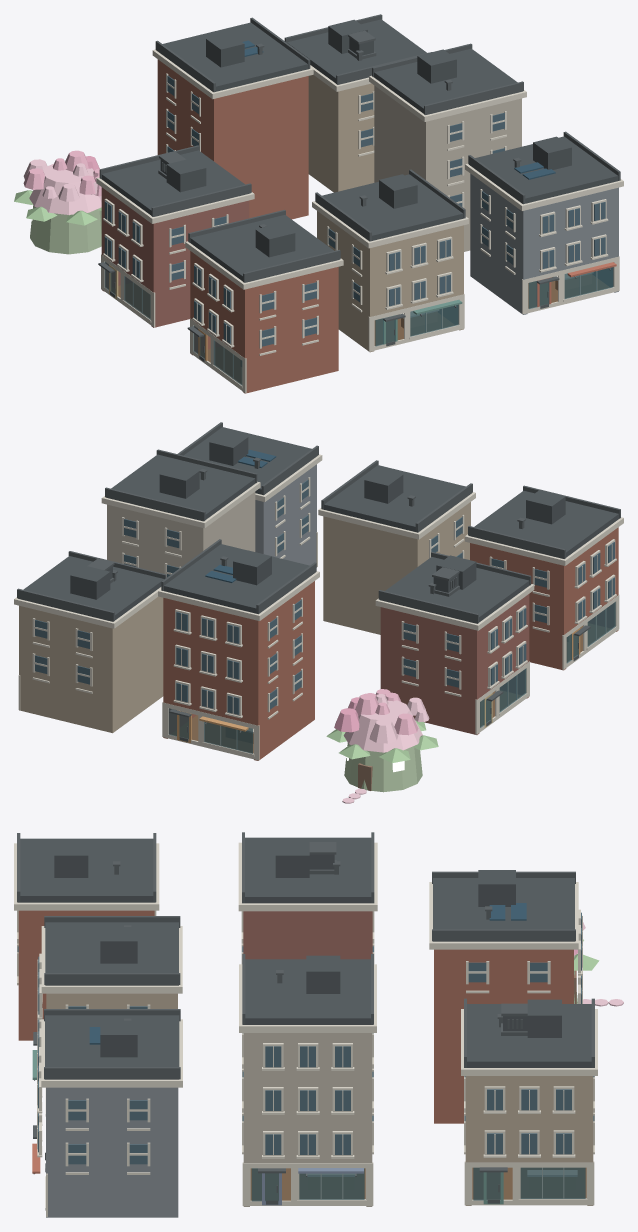
File: downtown-block-p0-m1.glb
The picture shows the model from 3 angles, top to bottom: view 1: azimuth 30°, elevation 25°; view 2: azimuth 150°, elevation 25°; view 3: azimuth 270°, elevation 25°; orthographic projection. The views are drawn at different scales.
Visible parts, largest first — view 1: urban_townhouse_10.003, urban_townhouse_12.001, urban_townhouse_00.004, urban_townhouse_11.003, urban_townhouse_13.004, urban_townhouse_14.004, urban_townhouse_01.003, base.004, bloom0.001; view 2: urban_townhouse_00.004, urban_townhouse_01.003, urban_townhouse_13.004, urban_townhouse_10.003, urban_townhouse_11.003, urban_townhouse_14.004, urban_townhouse_12.001, base.004, bloom0.001, blob.030; view 3: urban_townhouse_14.004, urban_townhouse_12.001, urban_townhouse_01.003, urban_townhouse_00.004, urban_townhouse_13.004, urban_townhouse_10.003, urban_townhouse_11.003.
Part boxes in pixels (<box>): urban_townhouse_10.003: <box>185,209,343,393</box>; urban_townhouse_12.001: <box>465,131,623,314</box>; urban_townhouse_00.004: <box>152,17,313,219</box>; urban_townhouse_11.003: <box>312,169,468,352</box>; urban_townhouse_13.004: <box>96,145,254,327</box>; urban_townhouse_14.004: <box>369,43,526,251</box>; urban_townhouse_01.003: <box>284,14,431,192</box>; base.004: <box>30,205,101,254</box>; bloom0.001: <box>29,163,101,214</box>; urban_townhouse_00.004: <box>158,539,319,760</box>; urban_townhouse_01.003: <box>14,551,166,733</box>; urban_townhouse_13.004: <box>375,551,534,734</box>; urban_townhouse_10.003: <box>465,485,623,670</box>; urban_townhouse_11.003: <box>318,460,475,634</box>; urban_townhouse_14.004: <box>101,449,260,577</box>; urban_townhouse_12.001: <box>177,422,322,567</box>; base.004: <box>344,742,422,792</box>; bloom0.001: <box>343,700,422,752</box>; blob.030: <box>369,719,398,743</box>; urban_townhouse_14.004: <box>239,954,376,1206</box>; urban_townhouse_12.001: <box>32,1009,182,1217</box>; urban_townhouse_01.003: <box>461,998,597,1205</box>; urban_townhouse_00.004: <box>429,870,582,1123</box>; urban_townhouse_13.004: <box>238,832,377,963</box>; urban_townhouse_10.003: <box>14,833,159,1040</box>; urban_townhouse_11.003: <box>32,916,182,1116</box>.
Size of the model in its own units: 34.42 by 13.81 by 35.82.
